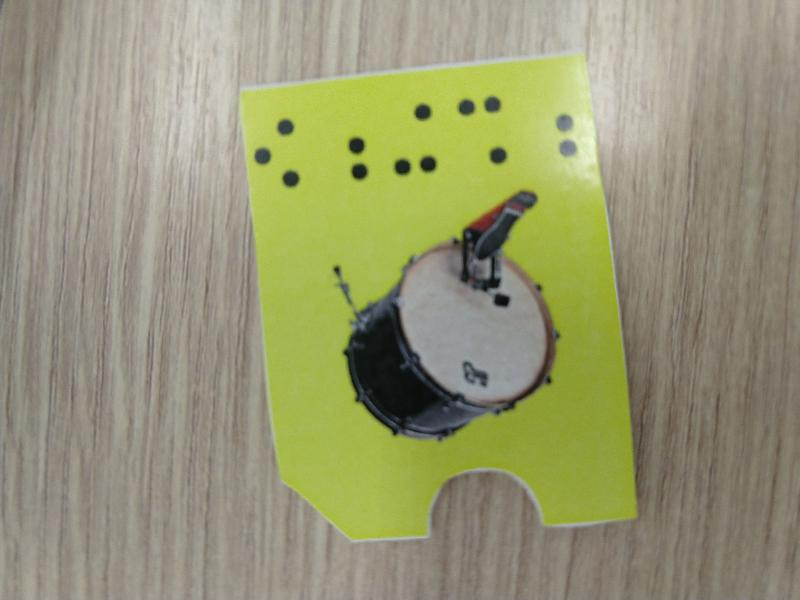bumbo: (230, 53, 645, 538)
